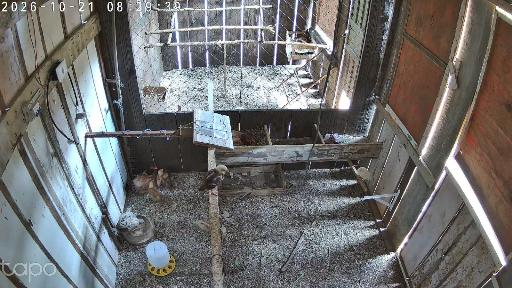frango: (115, 211, 145, 236)
galinha: (126, 164, 157, 195), (232, 129, 255, 146), (299, 29, 309, 42)
pintinho: (198, 164, 229, 196), (358, 166, 372, 184), (149, 185, 163, 202), (235, 254, 247, 272), (196, 219, 211, 233), (163, 172, 173, 189), (157, 168, 164, 186)
